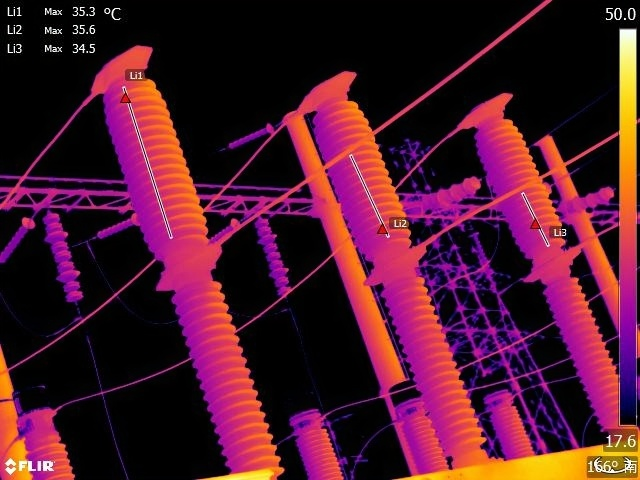circuit breaker: (99, 37, 287, 480), (297, 56, 493, 460), (462, 70, 622, 434)
current transformer: (10, 380, 81, 480), (280, 381, 349, 480), (385, 367, 446, 473), (478, 366, 538, 459)
insulator: (40, 207, 87, 305), (256, 210, 292, 298), (418, 174, 482, 214), (557, 179, 619, 218), (1, 207, 34, 270), (93, 211, 145, 244), (228, 118, 274, 152), (208, 214, 241, 244)
